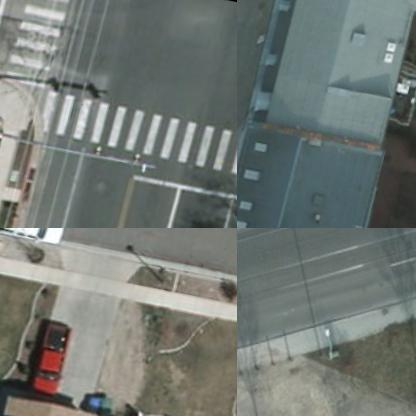car: (1, 228, 68, 249)
pickup: (29, 320, 74, 400)
